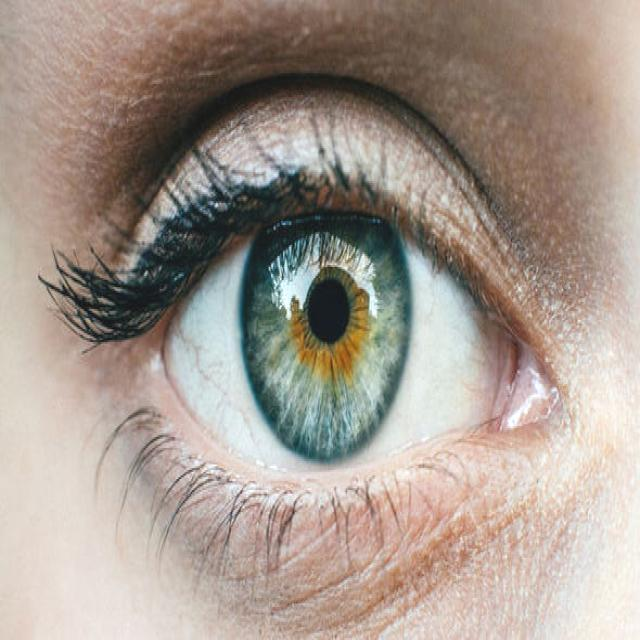Normal: (84, 63, 581, 570)
